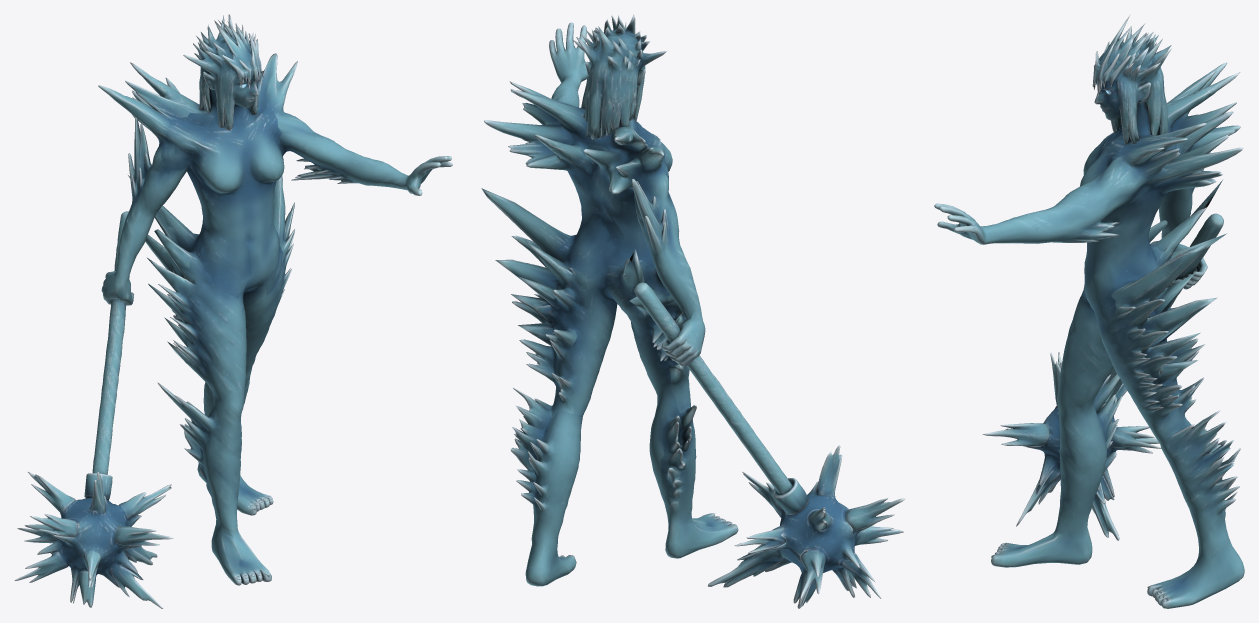
File: MZ4250 - Auril (Second Form).glb
The picture shows the model from 3 angles, left to right: view 1: azimuth 30°, elevation 25°; view 2: azimuth 150°, elevation 25°; view 3: azimuth 270°, elevation 25°; orthographic projection. The views are drawn at different scales.
Visible parts, largest first — view 1: FEEETTT.001; view 2: FEEETTT.001; view 3: FEEETTT.001.
Part boxes in pixels (left/top/right/bottom): FEEETTT.001: left=14, top=14, right=452, bottom=608; FEEETTT.001: left=481, top=14, right=905, bottom=608; FEEETTT.001: left=934, top=14, right=1244, bottom=608.
Bounding box in the file's own units: 50.14 × 66.89 × 33.14.
1 material, 1 textured.
